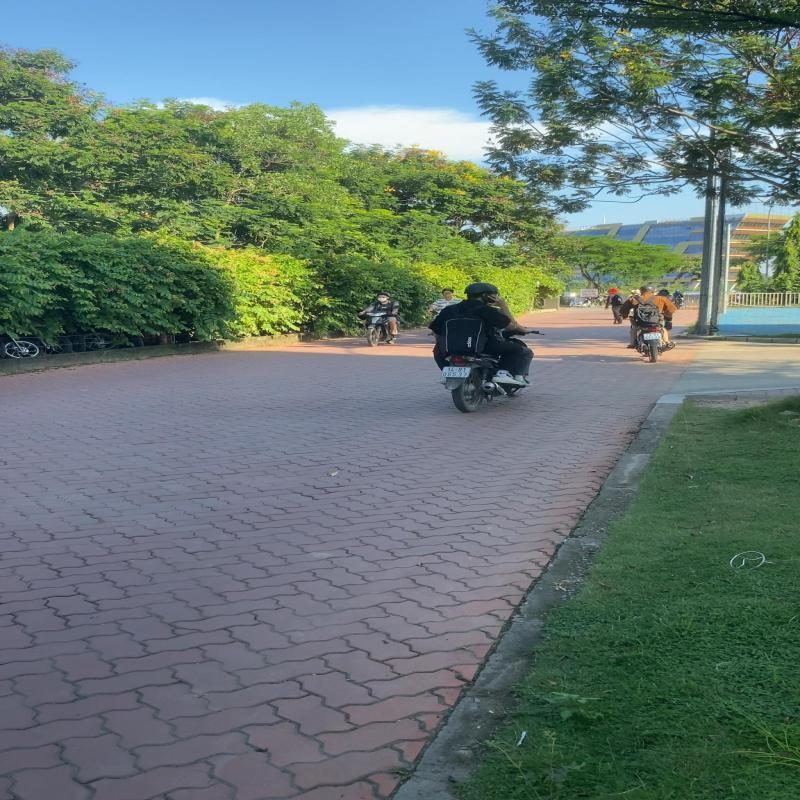helmet: (464, 282, 500, 302), (639, 285, 655, 293)
licenseplate: (440, 366, 471, 378), (641, 332, 662, 341)
motorcyclist: (430, 281, 535, 414), (618, 285, 678, 363)
